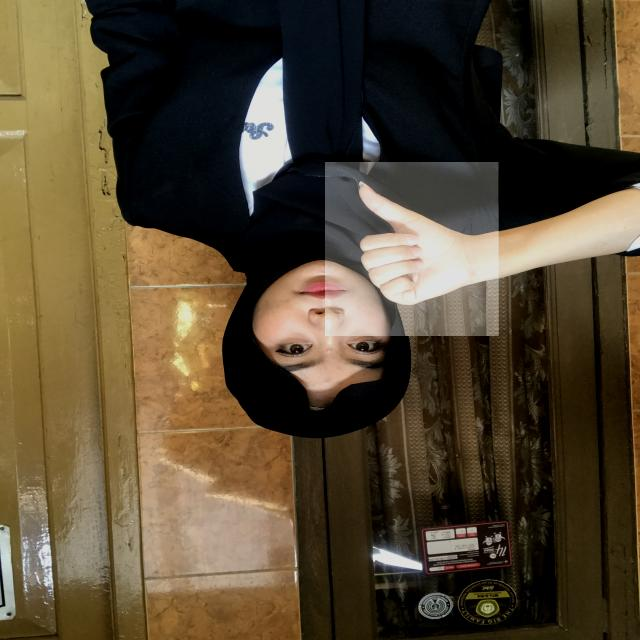sedih: (326, 162, 500, 336)
